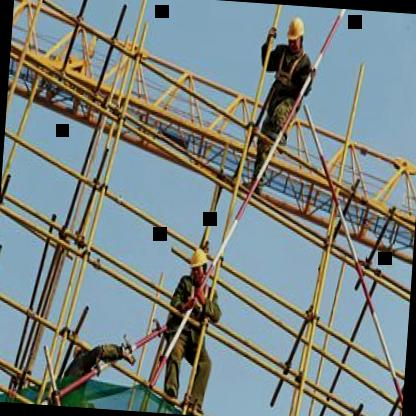helmet: (284, 12, 308, 54), (188, 245, 210, 286), (72, 336, 92, 366)
